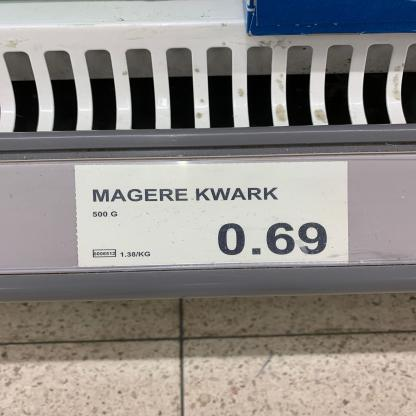prtg: (75, 162, 350, 269)
